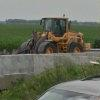Tractor: (26, 9, 87, 64)
